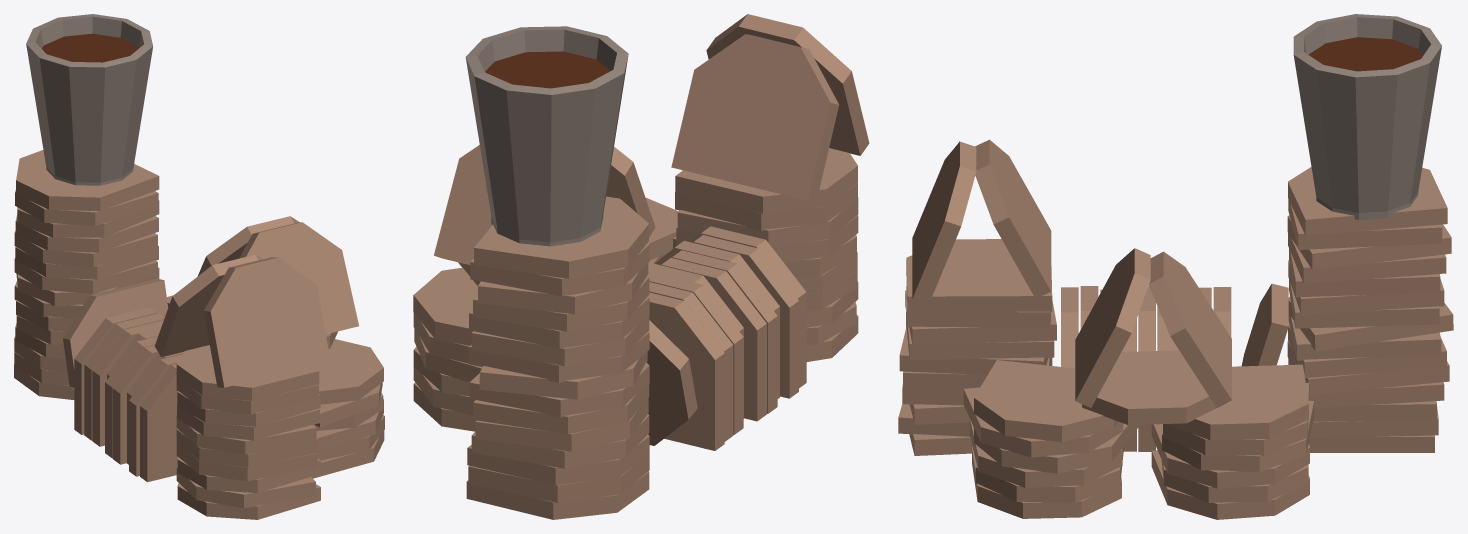
Rendered from wieza_herbata.fbx.
3 views of the same model, side by side, from view 1: azimuth 30°, elevation 25°; view 2: azimuth 150°, elevation 25°; view 3: azimuth 270°, elevation 25° (orthographic). The views are drawn at different scales.
Visible parts, largest first — view 1: Cube.011; view 2: Cube.011; view 3: Cube.011.
Part boxes in pixels (<box>): Cube.011: <box>14,14,384,519</box>; Cube.011: <box>413,14,869,519</box>; Cube.011: <box>898,14,1453,519</box>.
Size of the model in its own units: 593 by 825 by 1067.
